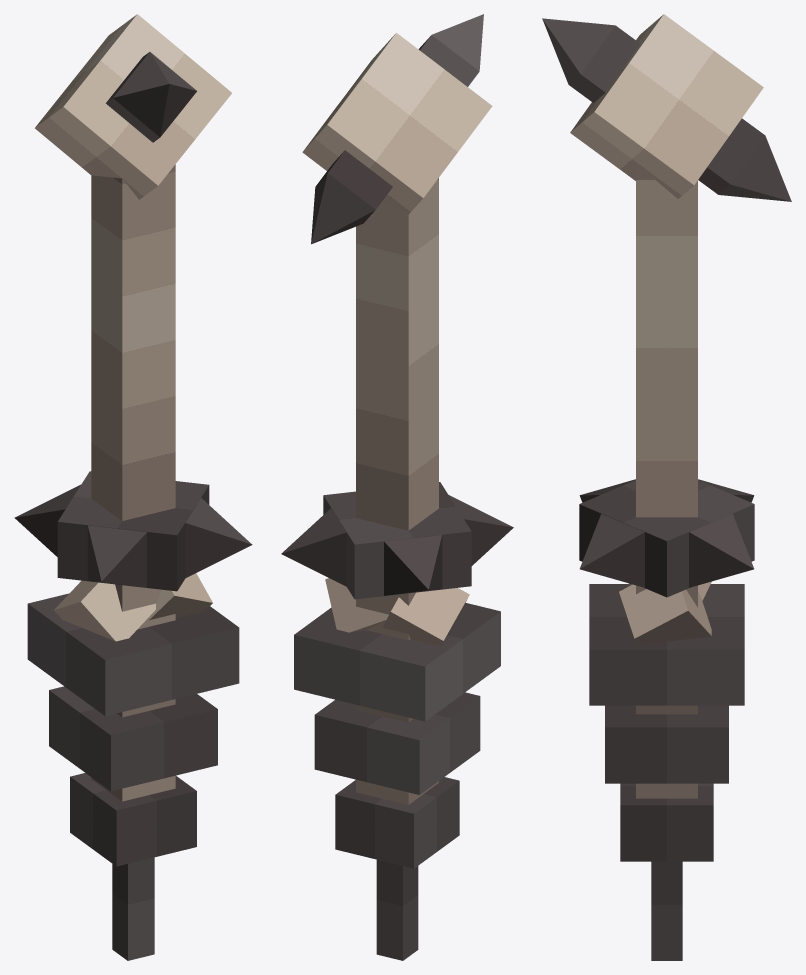
The model's file is arm_blaster_l.obj.
The picture shows the model from 3 angles, left to right: view 1: azimuth 30°, elevation 25°; view 2: azimuth 150°, elevation 25°; view 3: azimuth 270°, elevation 25°; orthographic projection. The views are drawn at different scales.
Parts seen in each view (by area): view 1: ARM_LEFT_BONE_BLASTER_Cube.417; view 2: ARM_LEFT_BONE_BLASTER_Cube.417; view 3: ARM_LEFT_BONE_BLASTER_Cube.417.
Boxes of the visible parts, x1,y1,x2,y2 form: ARM_LEFT_BONE_BLASTER_Cube.417: [14, 14, 252, 960]; ARM_LEFT_BONE_BLASTER_Cube.417: [281, 14, 513, 960]; ARM_LEFT_BONE_BLASTER_Cube.417: [542, 14, 791, 960].
Size of the model in its own units: 0.1951 by 1.05 by 0.2514.
